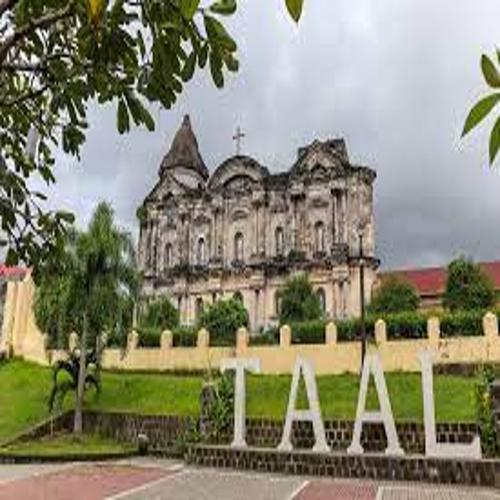Taal Basilica Church: (126, 108, 385, 339)
